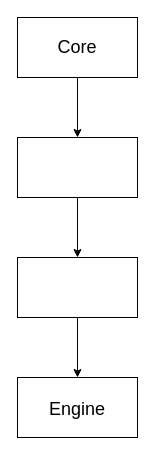
This 155x455 diagram has some shape labels left out. The centre of each missing label's shape, as x and y in pixels:
"RenderCore" goes at [77,287].
"RHI" goes at [77,167].
